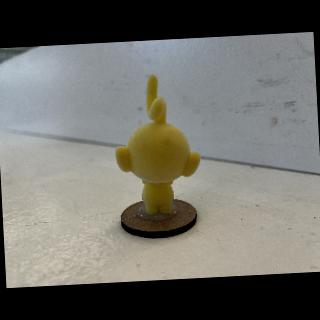teletubby: (116, 76, 200, 215)
